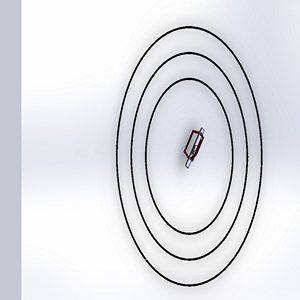circle: (106, 21, 273, 289)
submarine: (172, 123, 213, 179)
